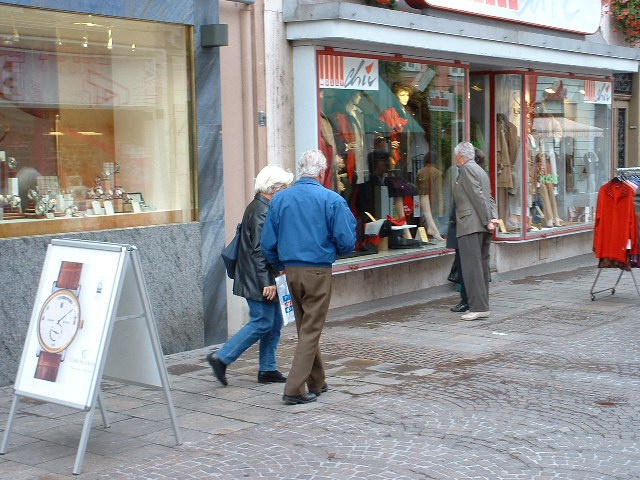person: (257, 150, 354, 402), (448, 140, 500, 319)
